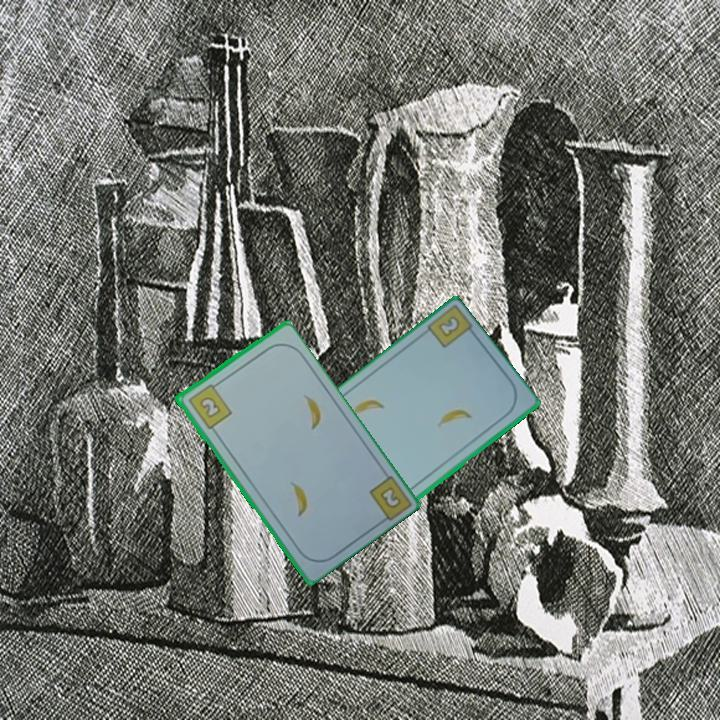2b: (184, 379, 234, 432), (434, 312, 463, 341), (376, 483, 404, 512)
